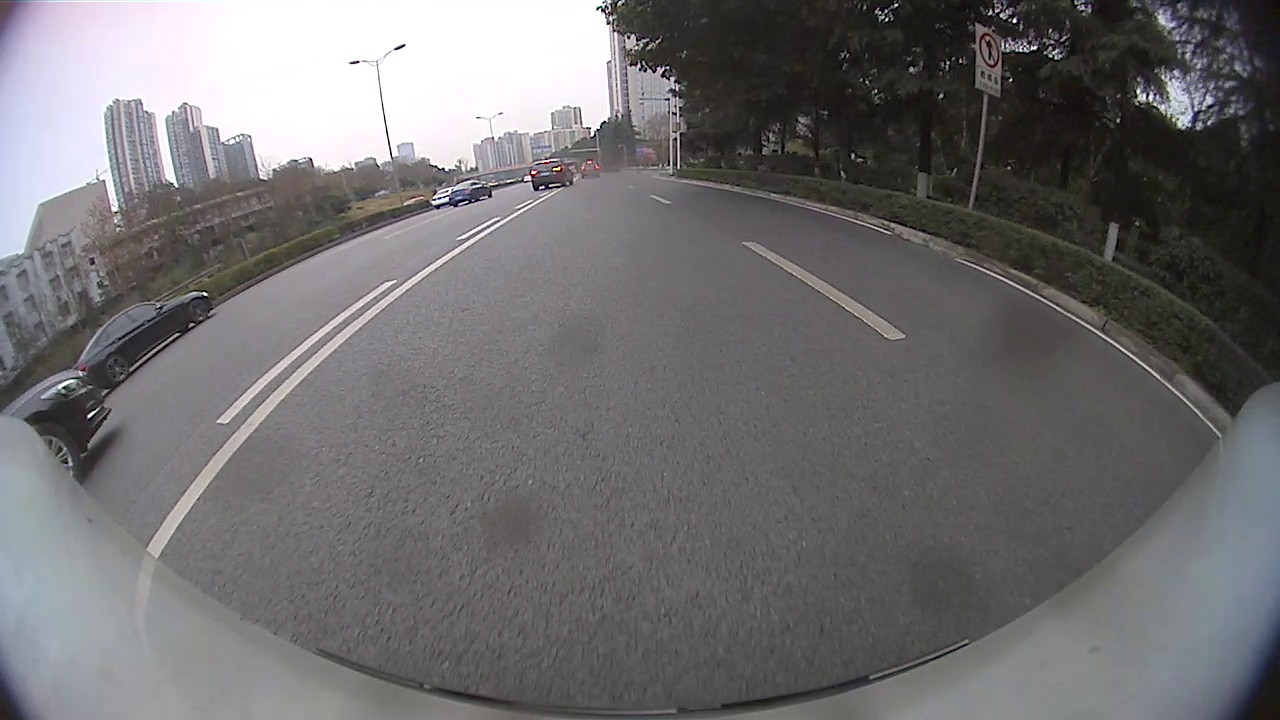car: (68, 291, 216, 386), (0, 369, 113, 482), (529, 157, 574, 191), (448, 178, 493, 206), (429, 186, 456, 209)
front: (25, 419, 84, 487), (187, 298, 211, 324)
rear: (105, 354, 131, 384)
